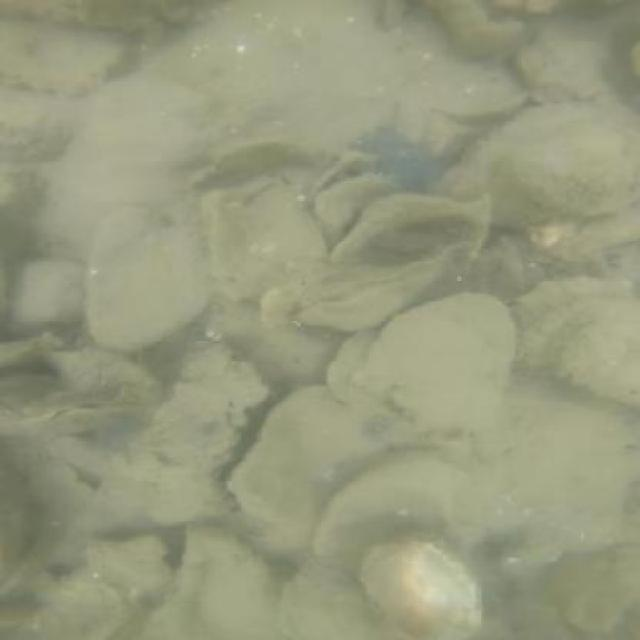Oyster-Indeterminate: (226, 383, 414, 532), (427, 98, 638, 226), (353, 294, 511, 432), (84, 198, 214, 353), (267, 239, 475, 335), (504, 279, 638, 417), (503, 117, 637, 214), (285, 557, 376, 638), (0, 87, 85, 162), (10, 257, 85, 330)
Oyster-Open: (183, 132, 338, 308), (309, 152, 396, 245)
